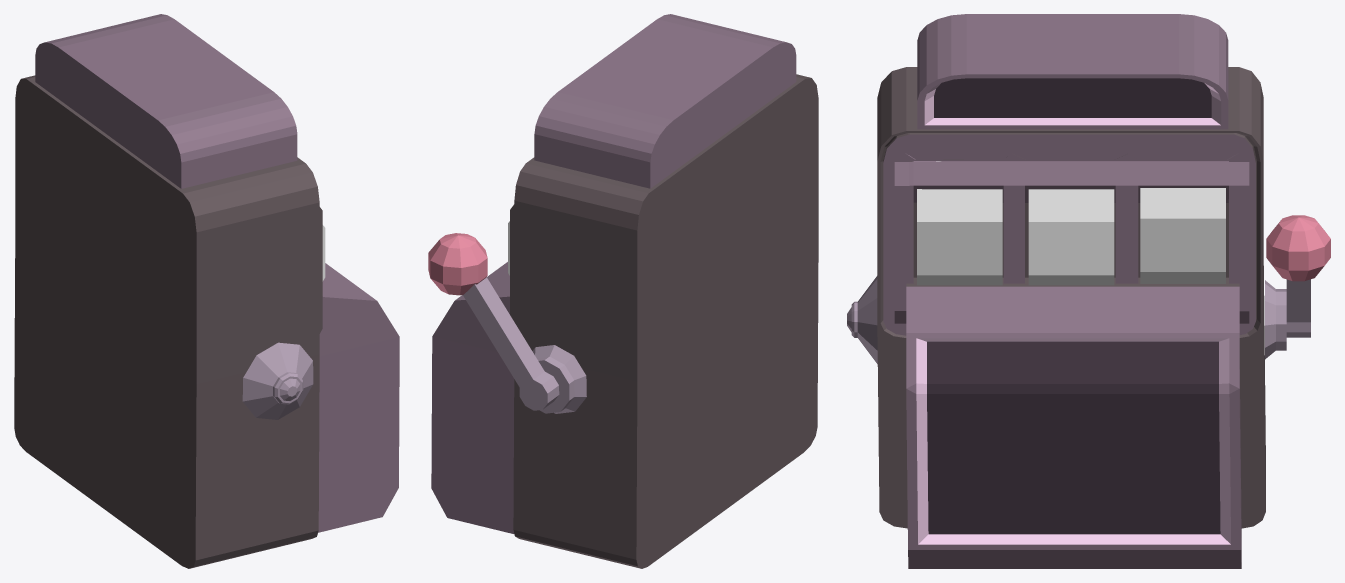
File: TragaMonedas.glb
3 views of the same model, side by side, from view 1: azimuth 30°, elevation 25°; view 2: azimuth 150°, elevation 25°; view 3: azimuth 270°, elevation 25° (orthographic). The views are drawn at different scales.
Parts seen in each view (by area): view 1: TragaMonedas.002, TragaMonedas.006, PalancaTornillo.002, TragaMonedas.003; view 2: TragaMonedas.002, TragaMonedas.006, Palanca.002, PalancaBola.001, TragaMonedas.003; view 3: TragaMonedas.002, TragaMonedas.006, TragaMonedas.003, TragaRuedaMid.002, TragaRuedaIzq.002, TragaRuedaDer.002, PalancaBola.001, Palanca.002, PalancaTornillo.002.
Part boxes in pixels (x1=…): TragaMonedas.002: x1=14, y1=75, x2=399, y2=568; TragaMonedas.006: x1=35, y1=14, x2=297, y2=188; PalancaTornillo.002: x1=242, y1=342, x2=313, y2=419; TragaMonedas.003: x1=319, y1=207, x2=322, y2=333; TragaMonedas.002: x1=431, y1=74, x2=818, y2=568; TragaMonedas.006: x1=534, y1=14, x2=796, y2=188; Palanca.002: x1=463, y1=277, x2=586, y2=413; PalancaBola.001: x1=428, y1=233, x2=487, y2=295; TragaMonedas.003: x1=510, y1=204, x2=514, y2=321; TragaMonedas.002: x1=877, y1=67, x2=1265, y2=568; TragaMonedas.006: x1=917, y1=14, x2=1228, y2=129; TragaMonedas.003: x1=883, y1=133, x2=1255, y2=335; TragaRuedaMid.002: x1=1028, y1=189, x2=1114, y2=285; TragaRuedaIzq.002: x1=917, y1=161, x2=1002, y2=285; TragaRuedaDer.002: x1=1140, y1=188, x2=1225, y2=283; PalancaBola.001: x1=1266, y1=215, x2=1330, y2=281; Palanca.002: x1=1265, y1=279, x2=1310, y2=359; PalancaTornillo.002: x1=847, y1=276, x2=877, y2=363.
Bounding box in the file's own units: 1.12 × 2.1 × 2.04.
